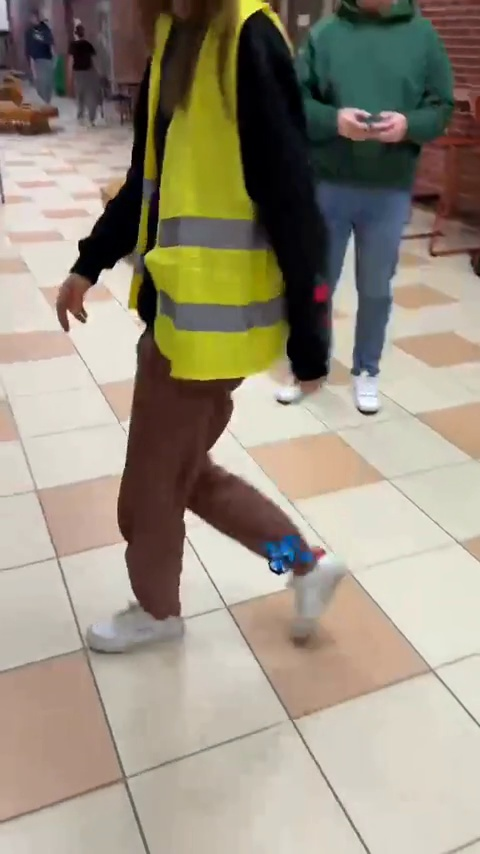drone: (255, 541, 319, 572)
no vest: (299, 7, 446, 409), (63, 22, 101, 122), (24, 8, 58, 102)
vest: (105, 4, 318, 650)
